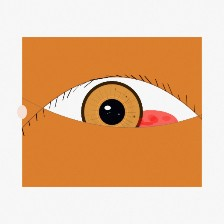hemorrhage_spot: (113, 93, 189, 153)
